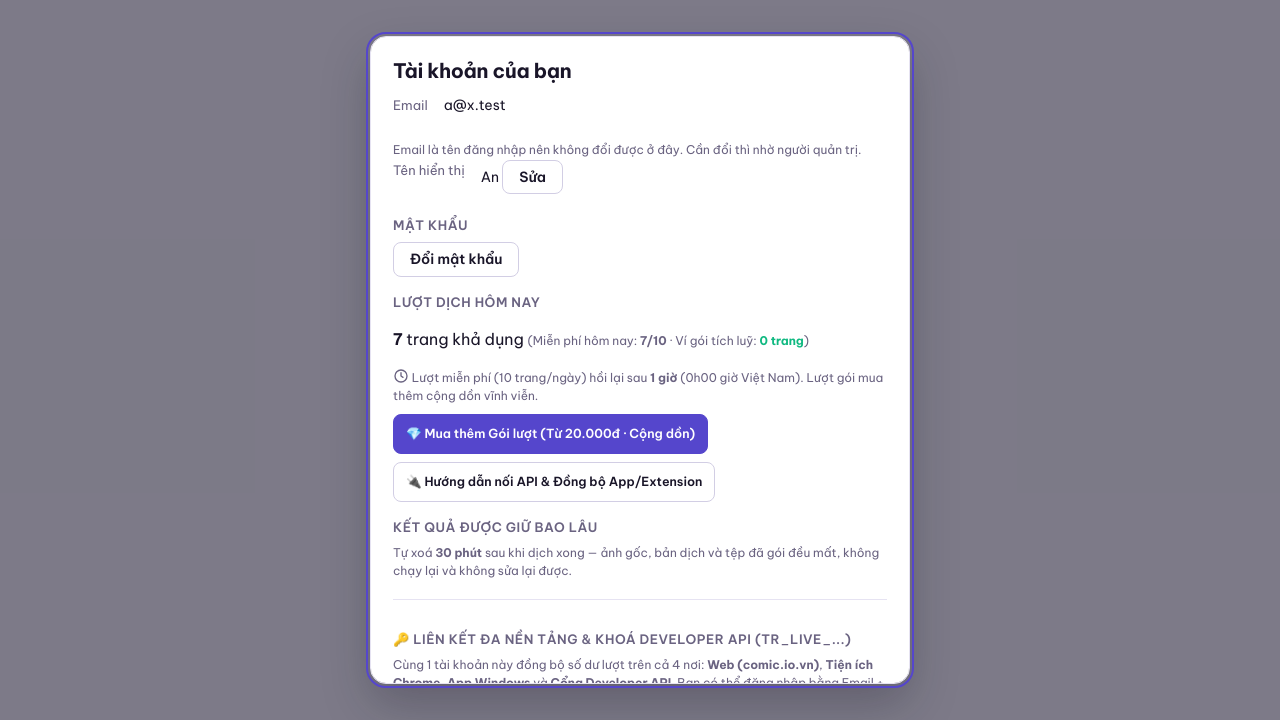
Test: E56 — sửa tài khoản › hiện ĐÚNG câu của máy chủ, KHÔNG kèm mã trạng thái
Click the button "Đổi mật khẩu" at {"x": 456, "y": 260}, box x1=393 y1=242 x2=519 y2=277
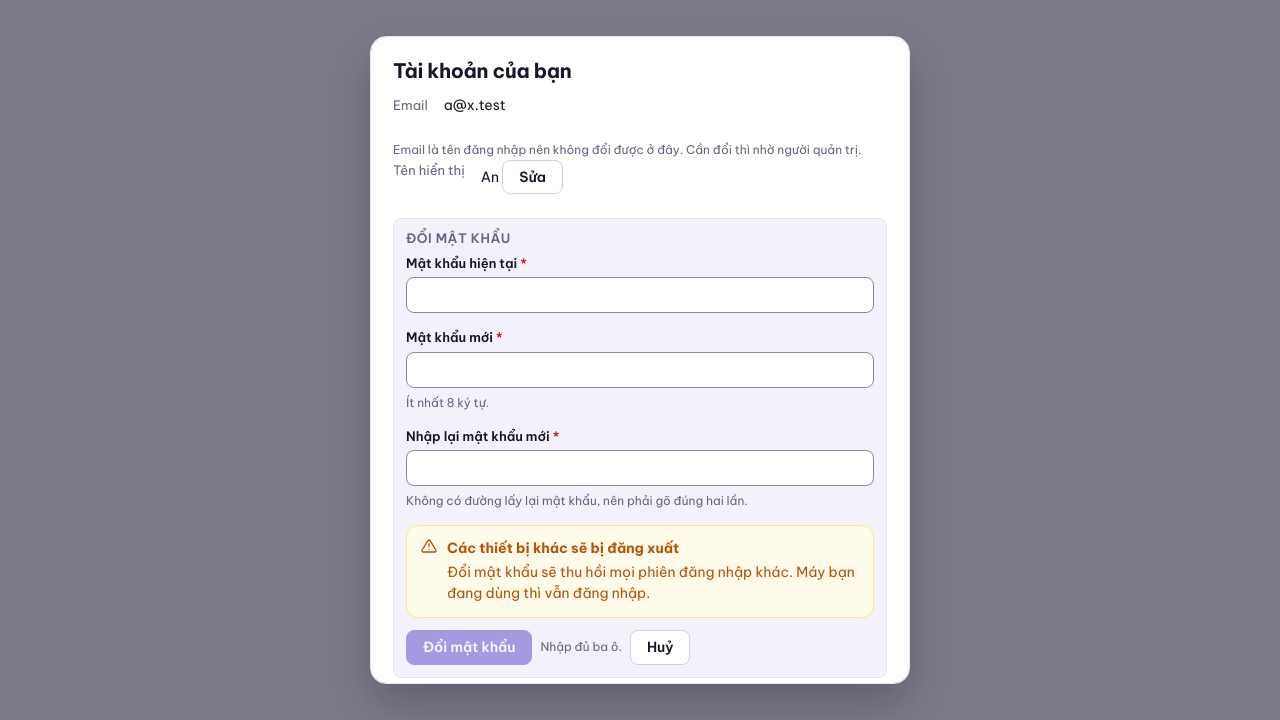
Type "sai-het-roi-1" into the password field labelled "Mật khẩu hiện tại *" at {"x": 640, "y": 296}, box x1=406 y1=278 x2=874 y2=314
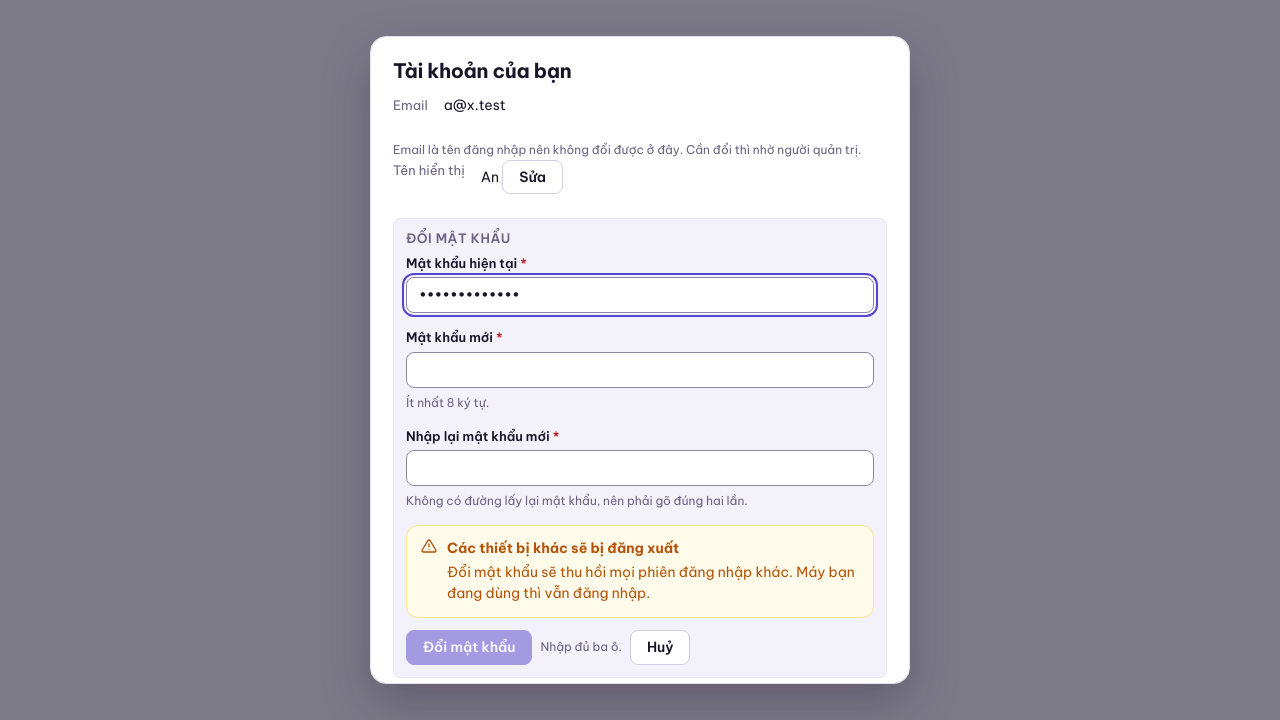
Type "mat-khau-moi-1" into the password field labelled "Mật khẩu mới *" at {"x": 640, "y": 370}, box x1=406 y1=352 x2=874 y2=388
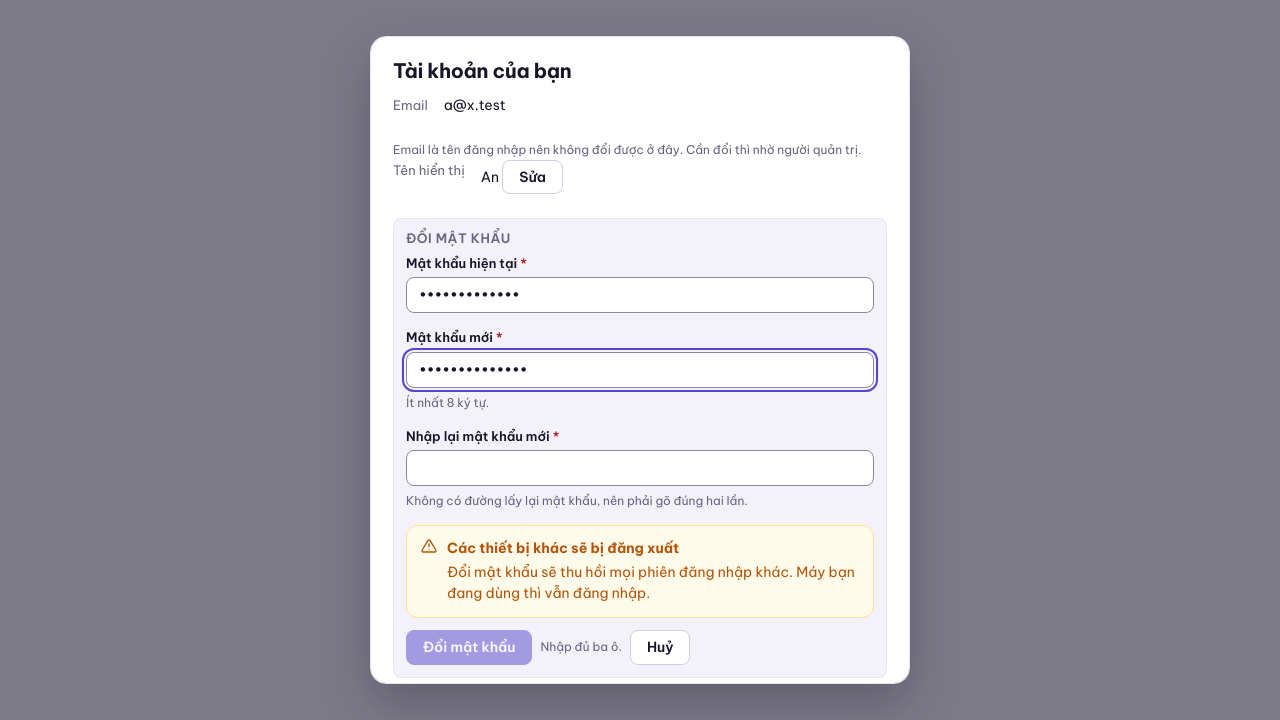
Type "mat-khau-moi-1" into the password field labelled "Nhập lại mật khẩu mới *" at {"x": 640, "y": 468}, box x1=406 y1=450 x2=874 y2=486
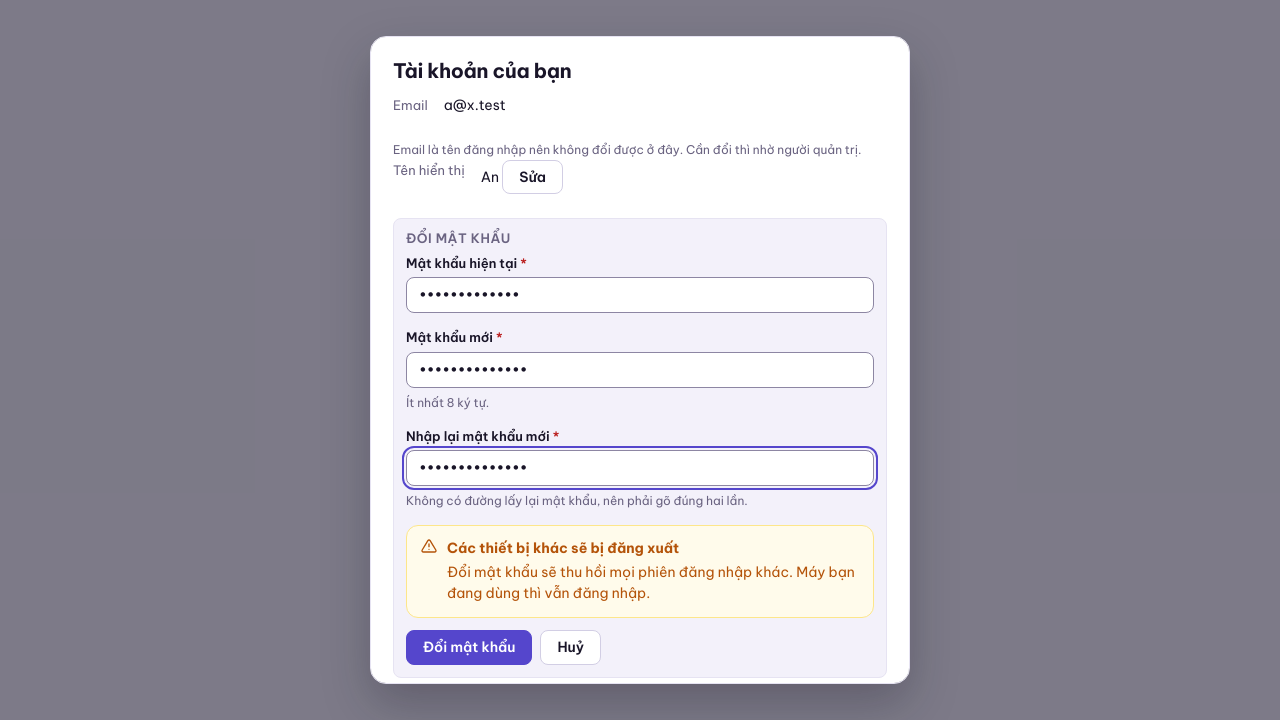
Click the button "Đổi mật khẩu" at {"x": 469, "y": 647}, box x1=406 y1=630 x2=532 y2=665
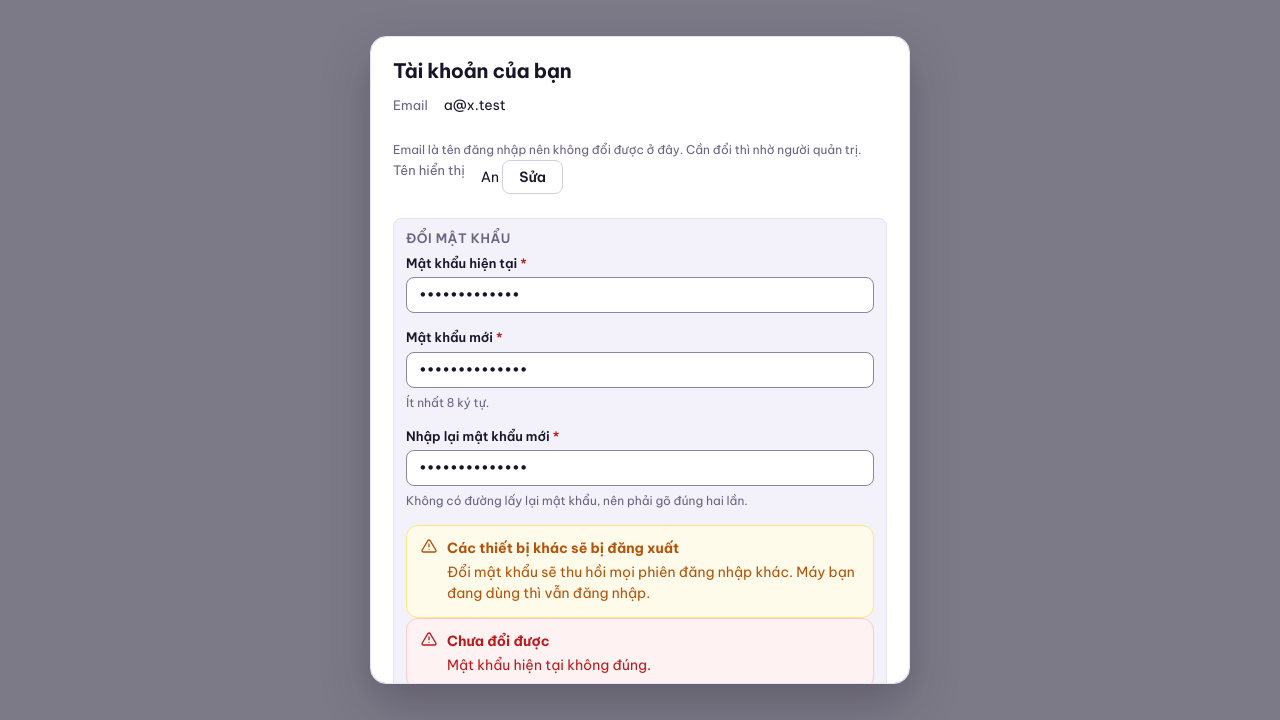
Expected: the text "Mật khẩu hiện tại không đúng." is shown, x1=447 y1=656 x2=651 y2=674
